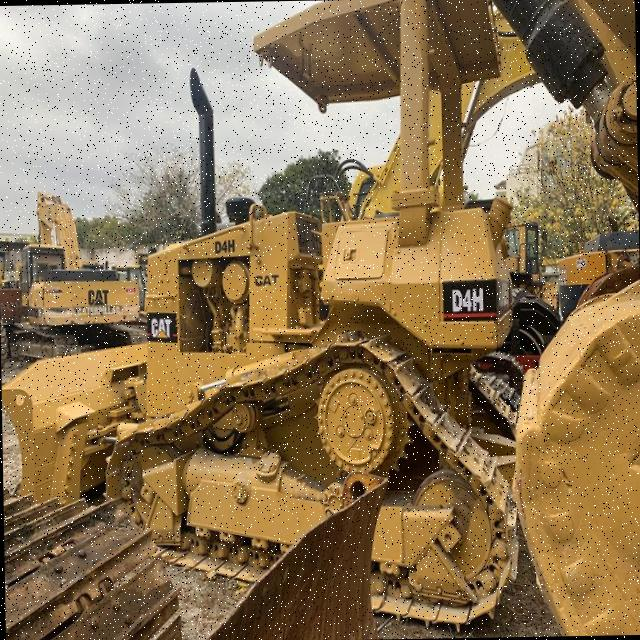Bulldozer: (3, 0, 585, 640)
